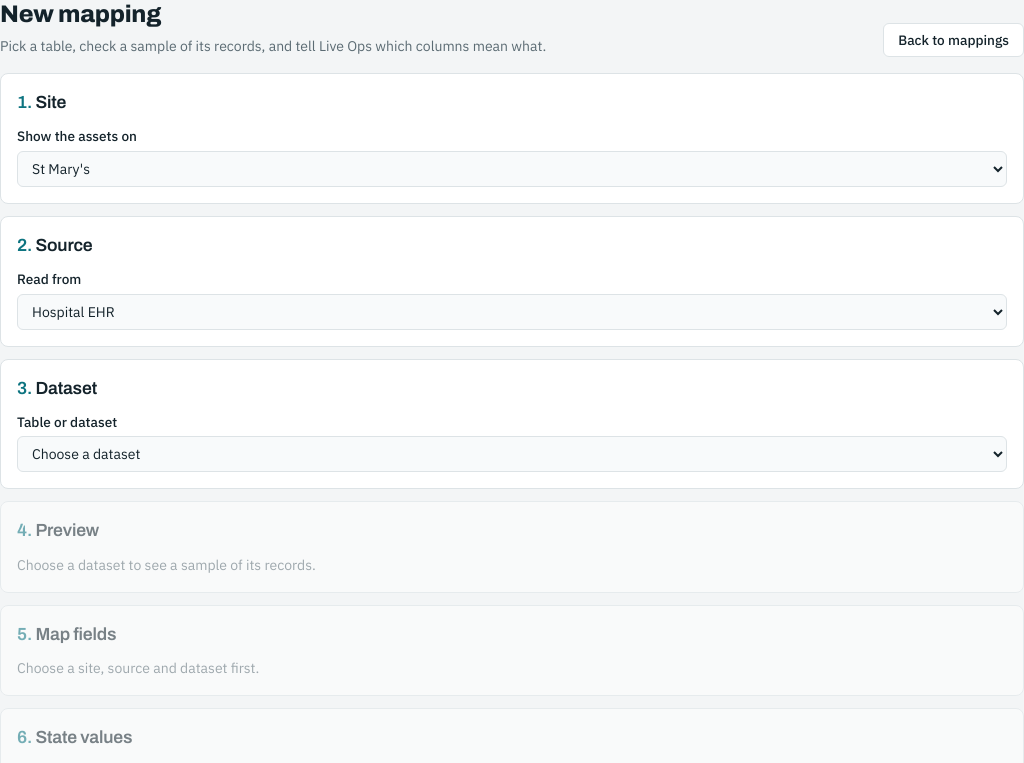
Test: an unreachable source on save shows the server's hint (502)
Step 1. Select "public.beds (5 columns)" in the dropdown labelled "Table or dataset" → {"x": 512, "y": 454}, box [17, 436, 1007, 472]
(page scrolled)
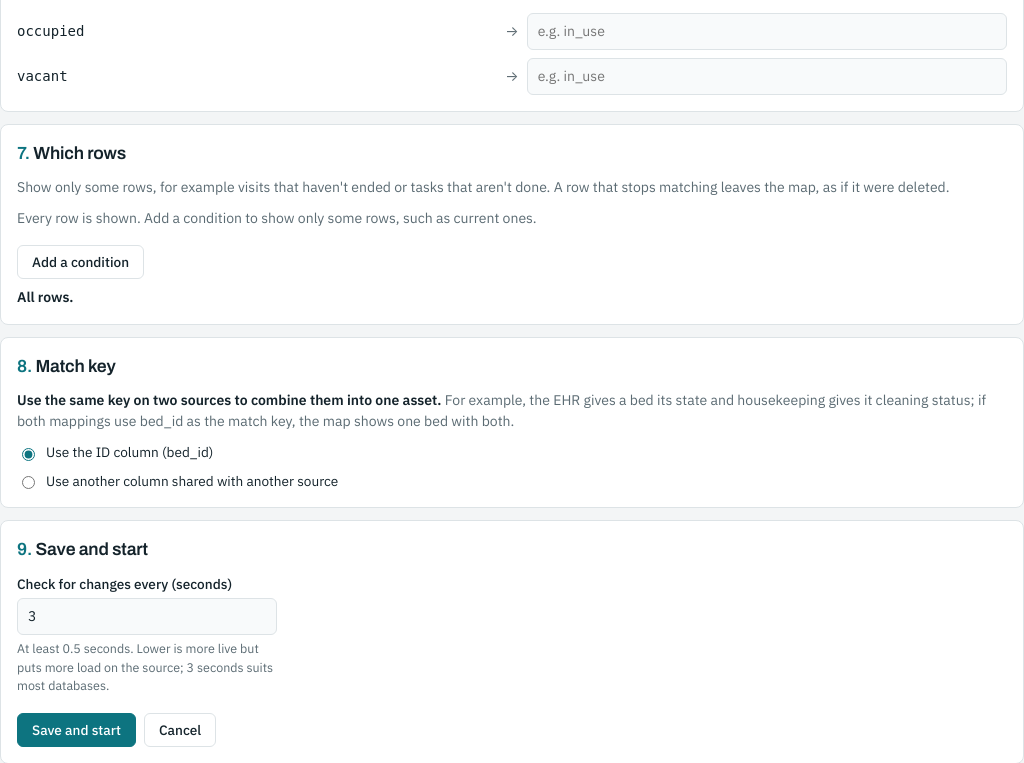
Step 2. Click the button "Save and start" → {"x": 76, "y": 730}, box [17, 713, 136, 747]
(page scrolled)
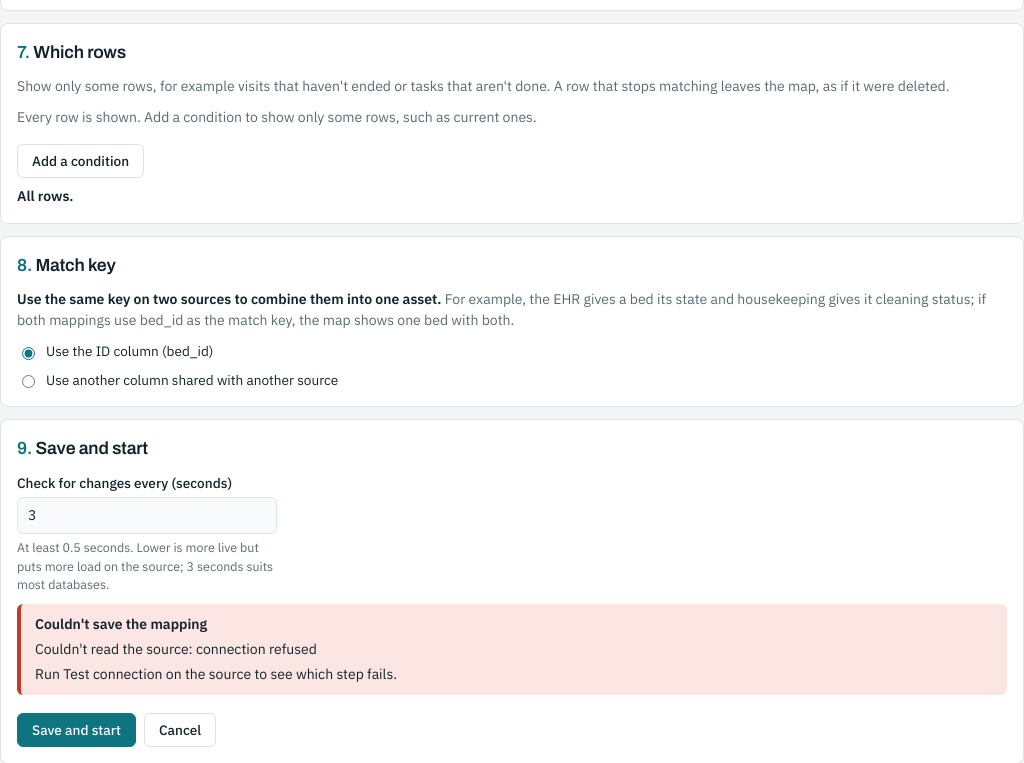
Expected: the text "Couldn't save the mapping" shows "connection refused", [35, 640, 317, 658]
Expected: the text "Couldn't save the mapping" shows "Run Test connection on the source to see which step fails.", [35, 665, 397, 683]
